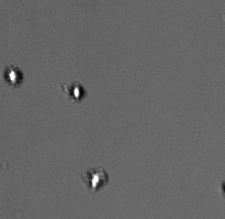Living Cell: (84, 167, 108, 192), (4, 65, 23, 86), (67, 80, 85, 101)
